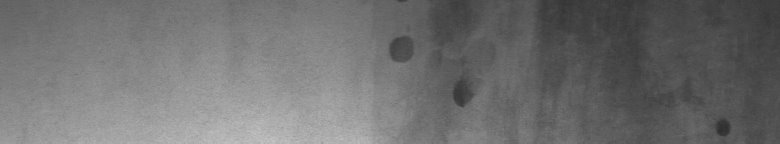fi: (384, 28, 479, 115)
